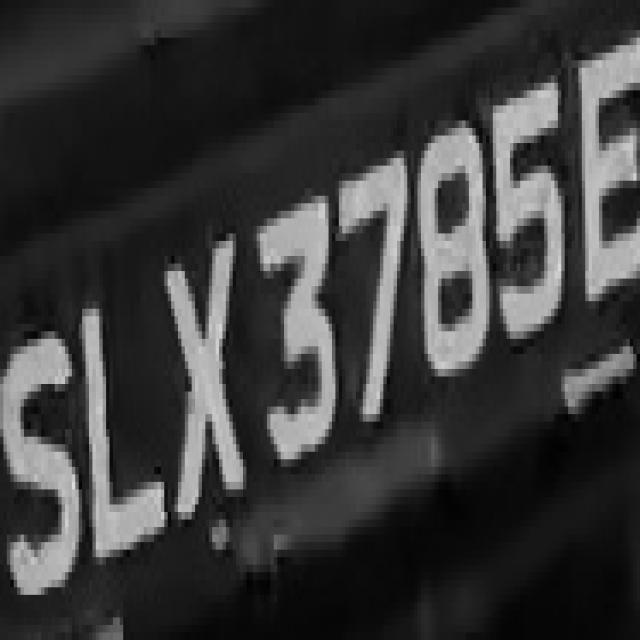3: (246, 173, 339, 505)
5: (483, 53, 561, 369)
7: (325, 143, 418, 459)
8: (414, 113, 500, 407)
E: (568, 22, 640, 362)
L: (79, 279, 164, 572)
S: (3, 302, 79, 618)
X: (144, 210, 250, 534)
